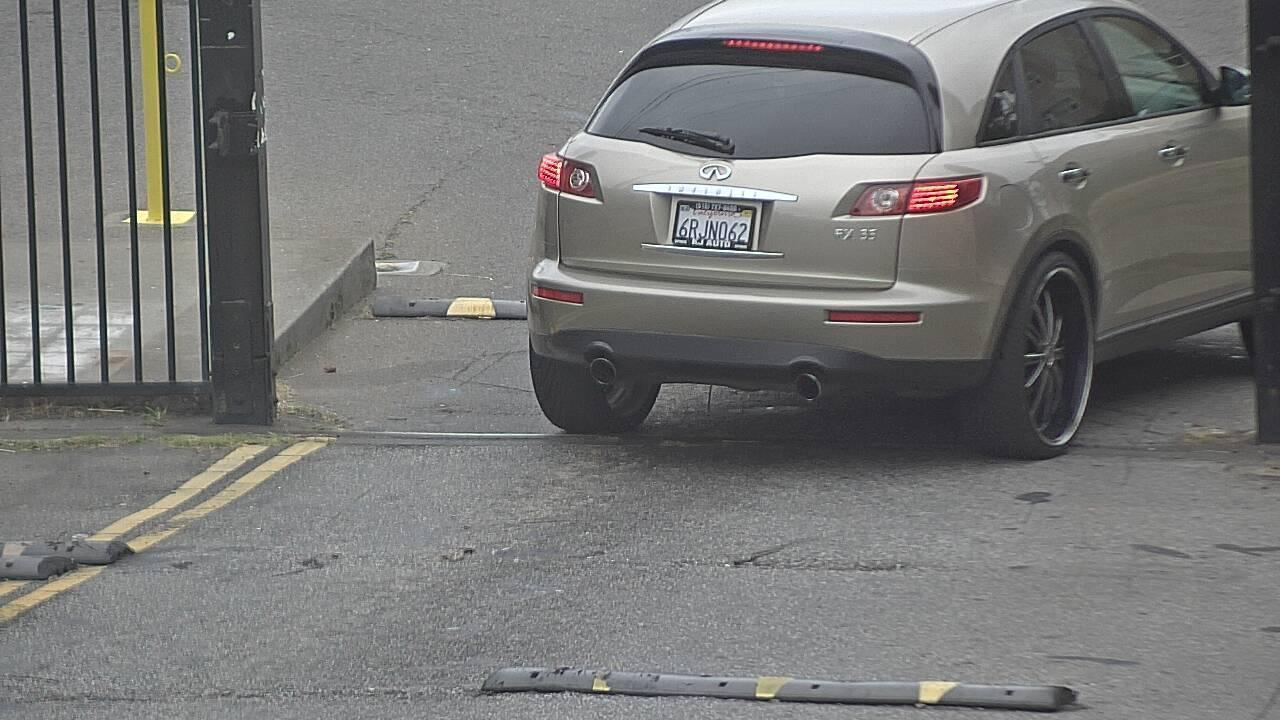placa de veiculo: (646, 181, 789, 285)
